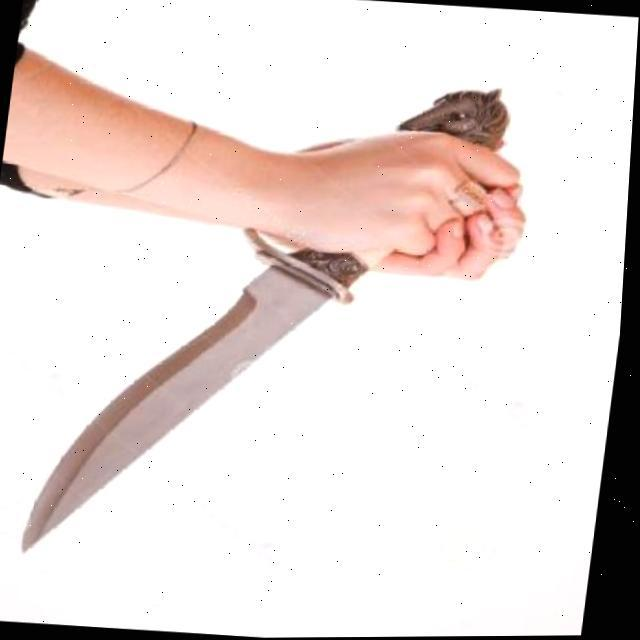knife: (19, 61, 514, 582)
